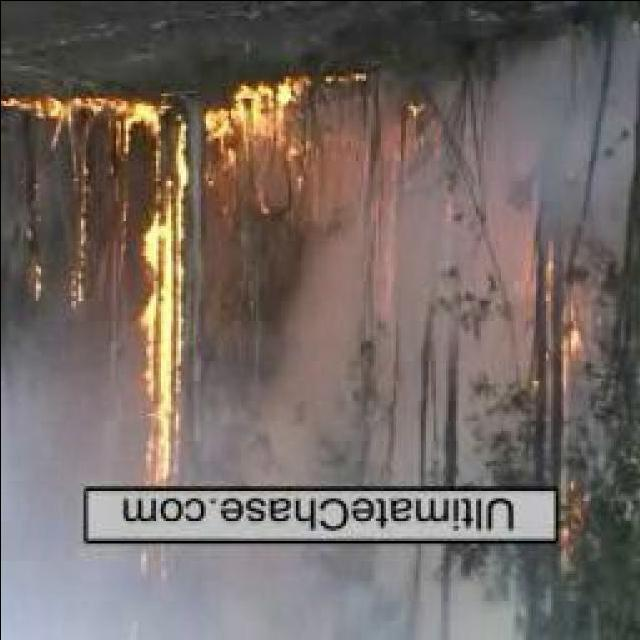Fire: (137, 90, 195, 569), (197, 81, 329, 168), (522, 250, 584, 380), (7, 88, 124, 148), (66, 179, 88, 311), (550, 492, 582, 550), (403, 90, 429, 160), (29, 248, 42, 302)
